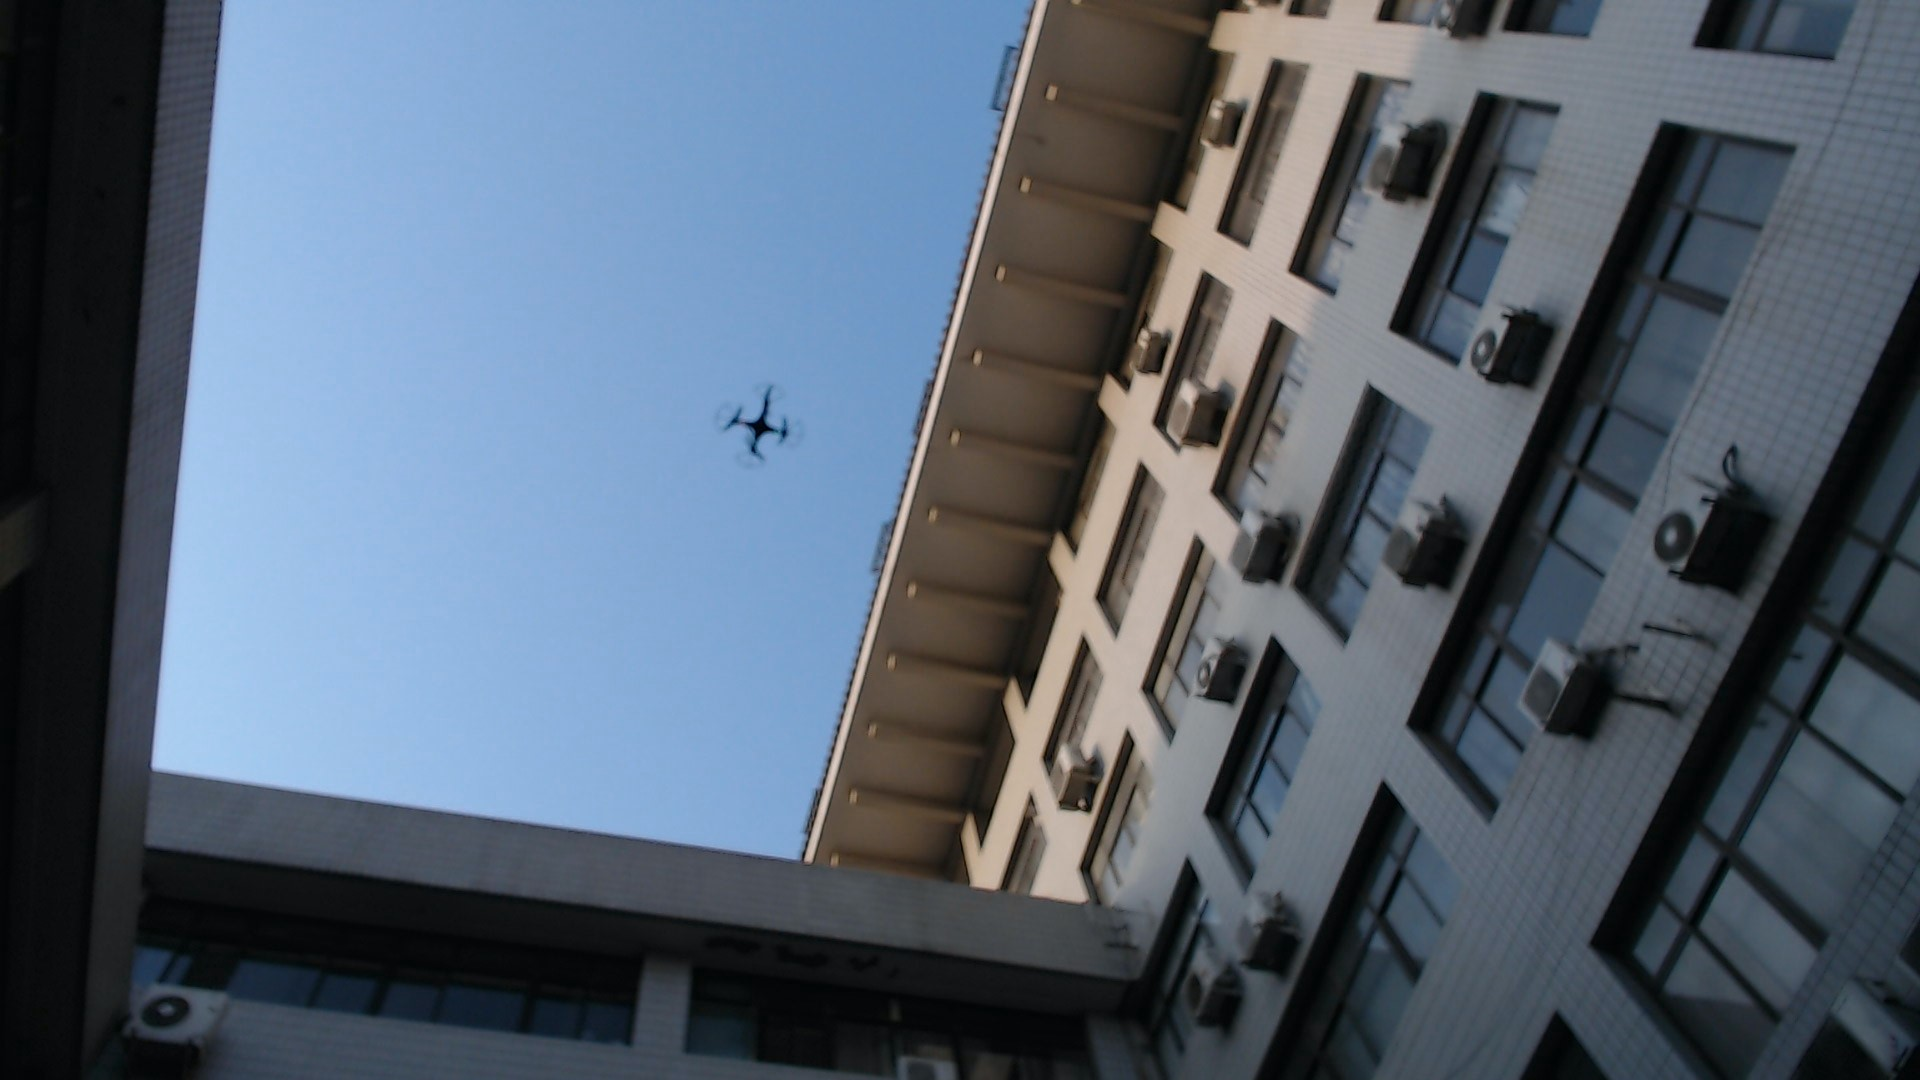drone: (698, 372, 825, 477)
